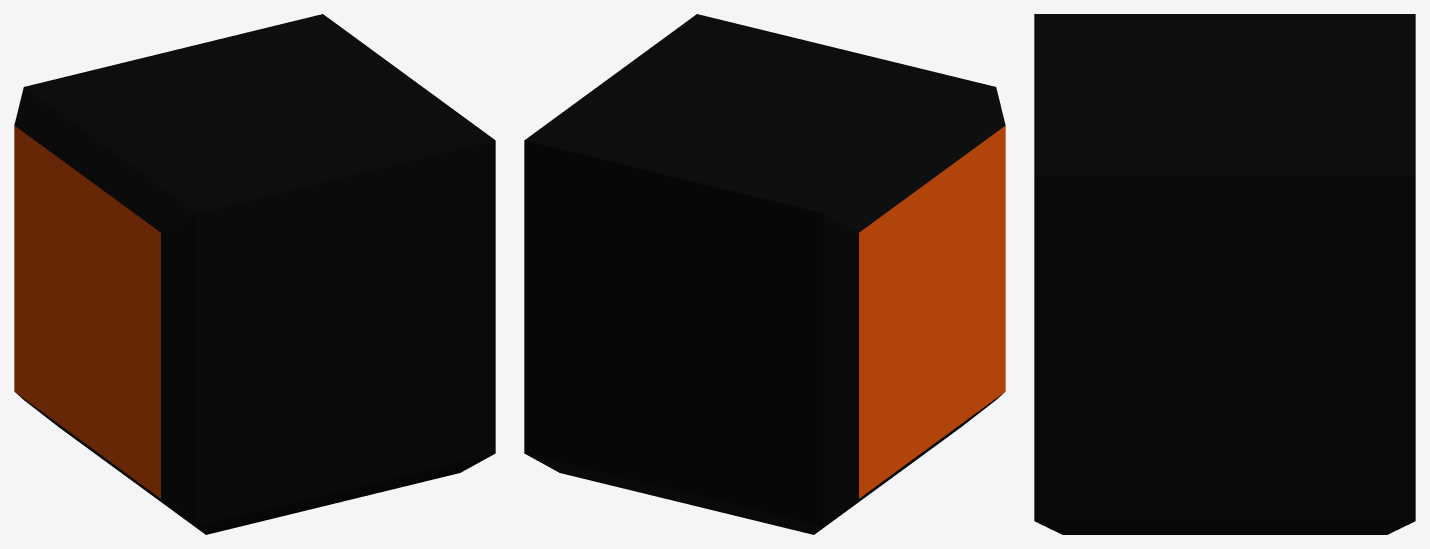
Rendered from rubiks_cube_14.glb.
3 views of the same model, side by side, from view 1: azimuth 30°, elevation 25°; view 2: azimuth 150°, elevation 25°; view 3: azimuth 270°, elevation 25° (orthographic). The views are drawn at different scales.
Parts seen in each view (by area): view 1: Cube14.001; view 2: Cube14.001; view 3: Cube14.001.
Part boxes in pixels (x1,y1,x2,y2): Cube14.001: [14, 14, 495, 534]; Cube14.001: [524, 14, 1005, 534]; Cube14.001: [1034, 14, 1415, 534].
Size of the model in its own units: 2.15 by 2.15 by 2.
